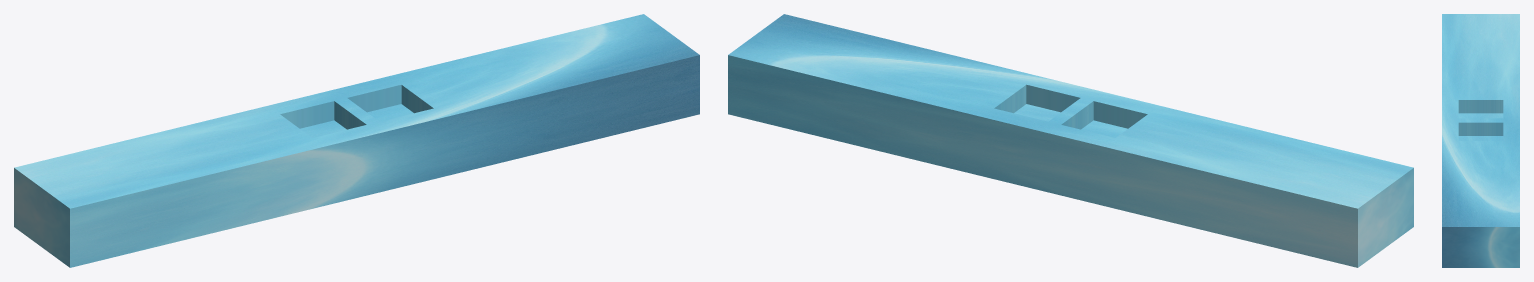
The model's file is rod_dd.obj.
3 views of the same model, side by side, from view 1: azimuth 30°, elevation 25°; view 2: azimuth 150°, elevation 25°; view 3: azimuth 270°, elevation 25° (orthographic). The views are drawn at different scales.
Visible parts, largest first — view 1: rod_d; view 2: rod_d; view 3: rod_d.
Boxes of the visible parts, bbox=[...] form: rod_d: bbox=[14, 14, 699, 267]; rod_d: bbox=[728, 14, 1413, 267]; rod_d: bbox=[1442, 14, 1519, 267].
Size of the model in its own units: 3 by 0.2697 by 0.4627.
Materials: 1 (1 with a texture image).
